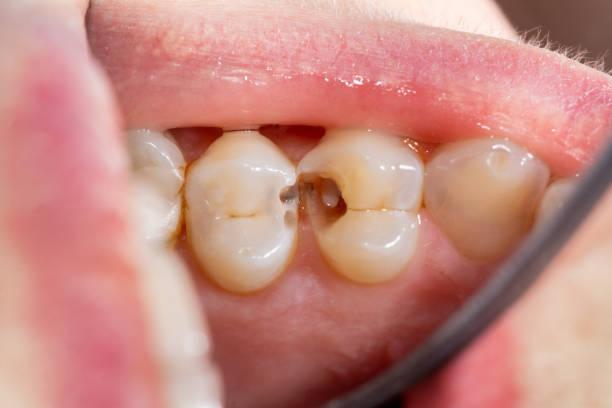Caries: (294, 166, 356, 231), (266, 183, 307, 228)
